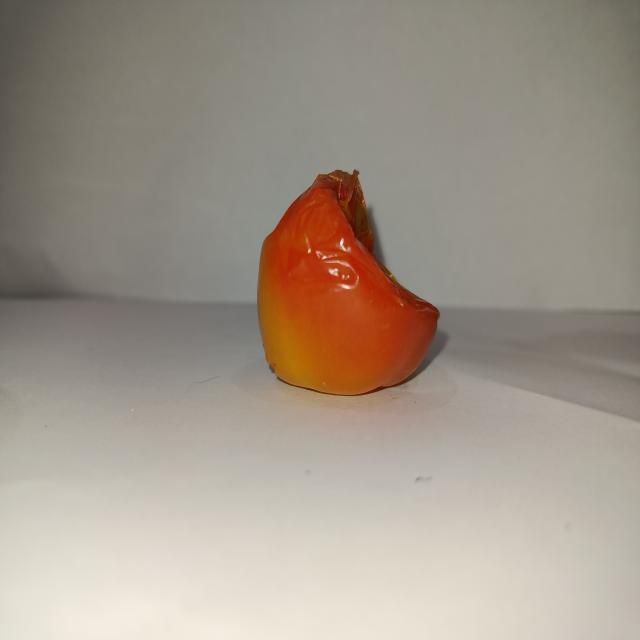Red: (255, 167, 440, 396)
